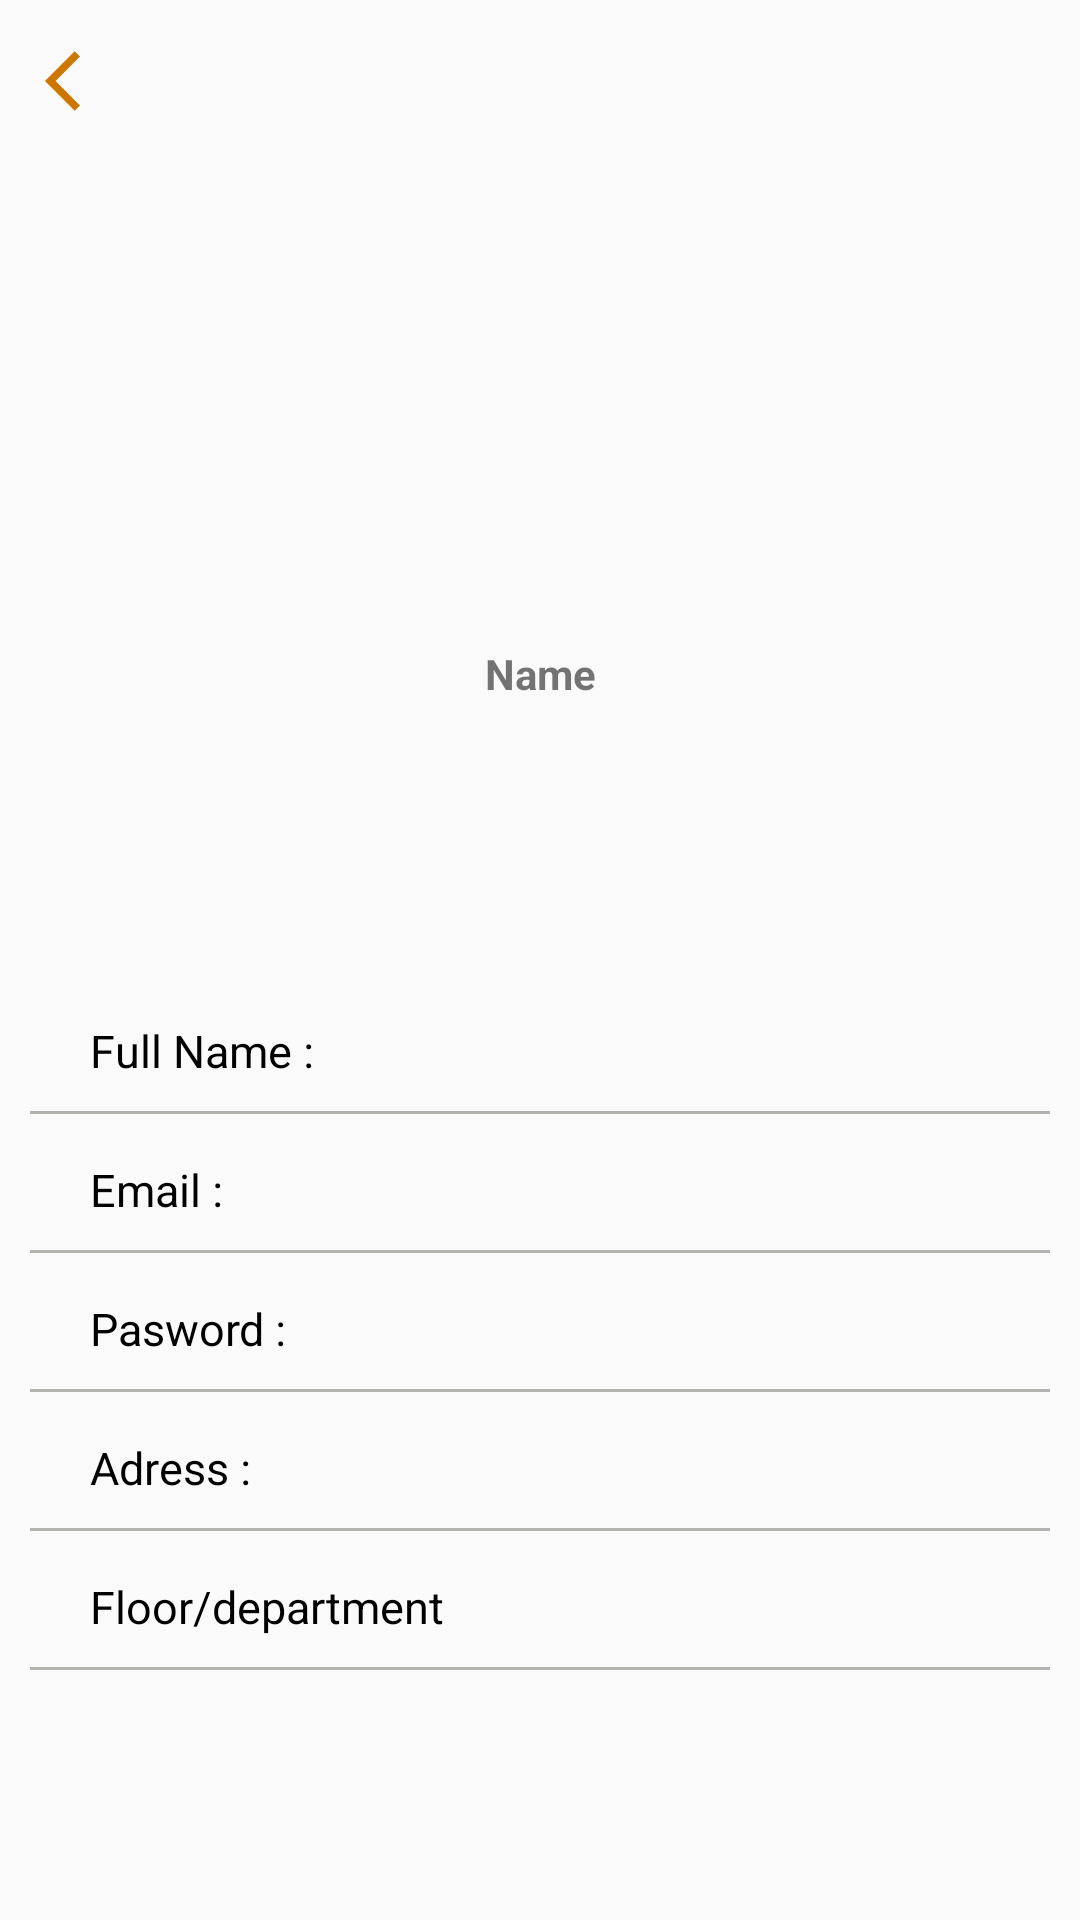

Named icons in this screenshot (1080 × 1920) and their centers, [x,y]:
arrow back: [62,81]
